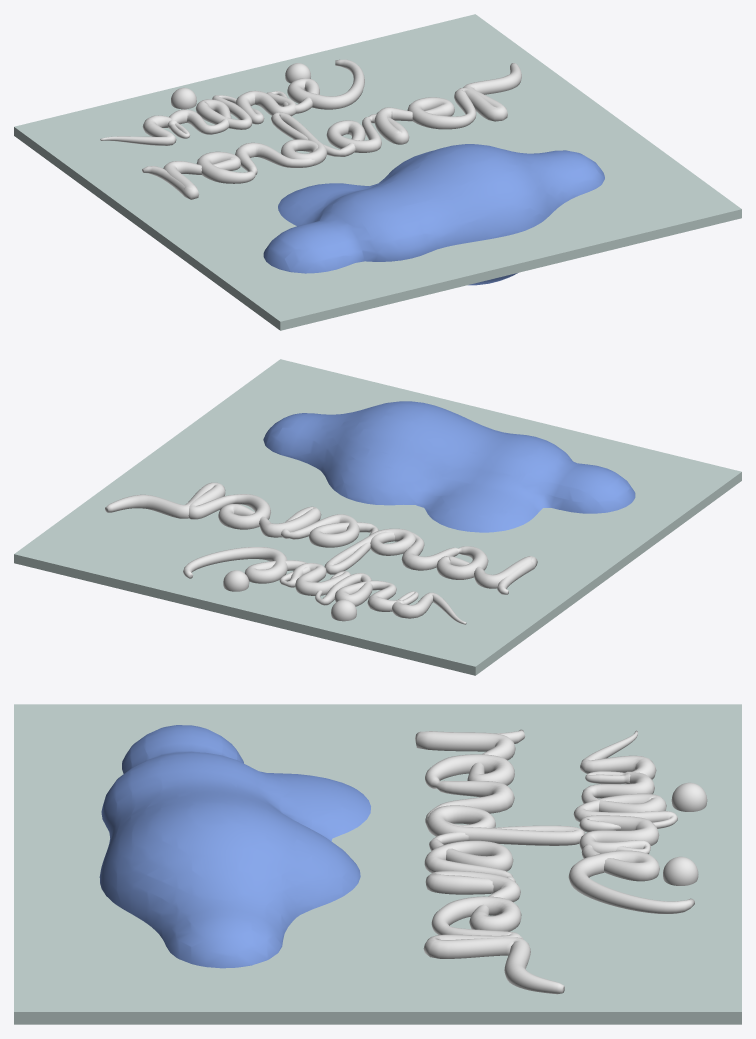
The model's file is minirenderer.fbx.
3 renders of one model, top to bottom at view 1: azimuth 30°, elevation 25°; view 2: azimuth 150°, elevation 25°; view 3: azimuth 270°, elevation 25°, orthographic. The views are drawn at different scales.
Visible parts, largest first — view 1: Plane, Cloud, Characters; view 2: Plane, Cloud, Characters; view 3: Plane, Cloud, Characters.
Part boxes in pixels (x1,y1,x2,y2): Plane: (14, 14, 741, 330); Cloud: (263, 144, 604, 285); Characters: (100, 59, 521, 199); Plane: (14, 359, 741, 675); Cloud: (263, 401, 635, 532); Characters: (105, 482, 537, 624); Plane: (14, 704, 741, 1024); Cloud: (99, 725, 370, 968); Characters: (415, 729, 707, 994).
Size of the model in its own units: 12.34 by 3.1 by 12.34.
